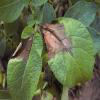Potato leaf early blight: (44, 14, 94, 89), (7, 26, 44, 99)
